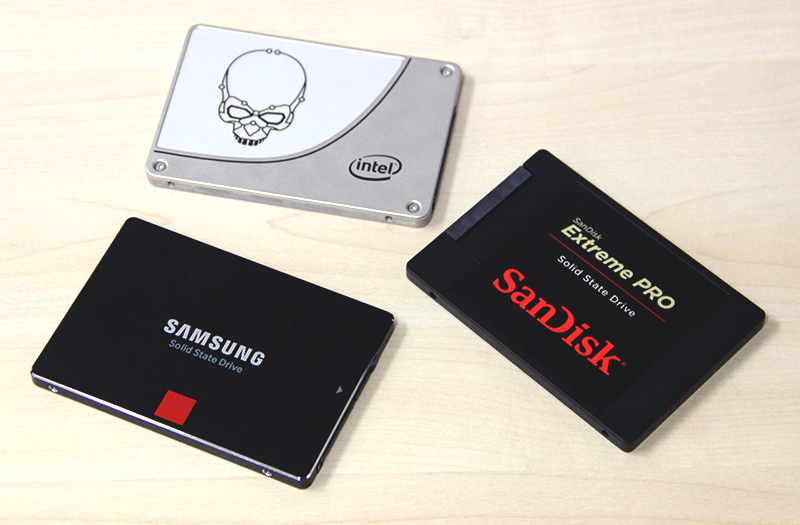samsung-hdd-240gb: (28, 227, 409, 478)
